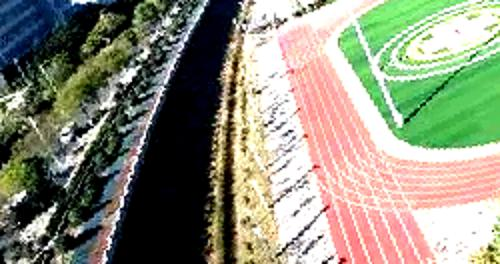Apron: (415, 5, 496, 54)
